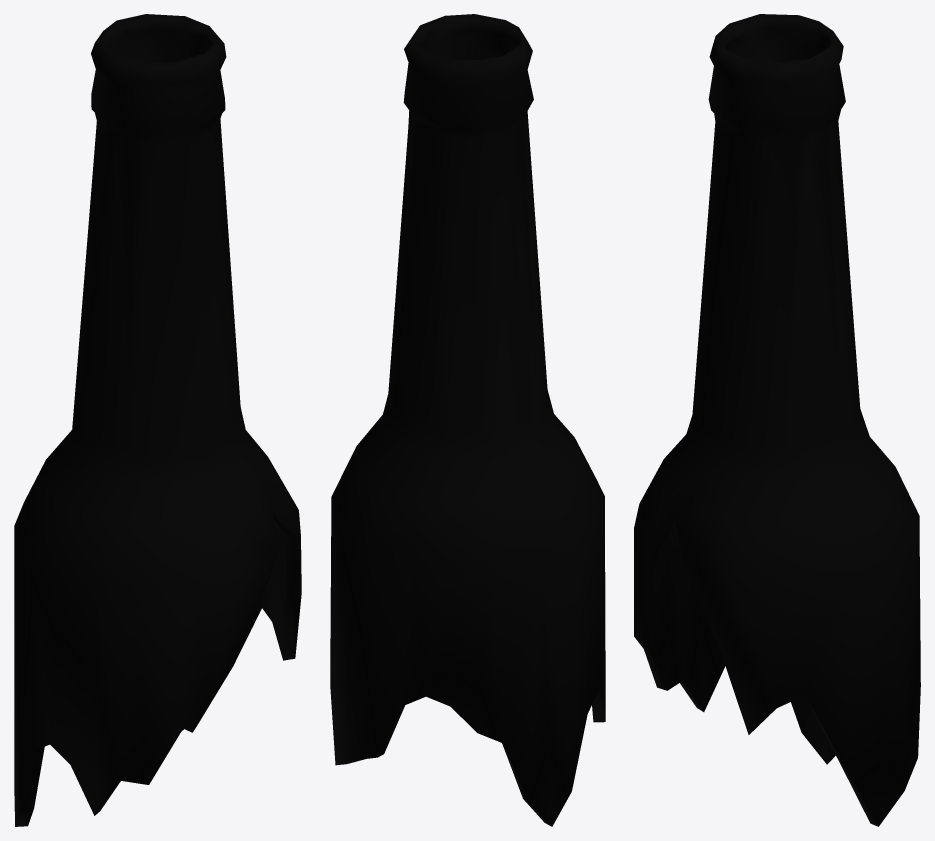
File: bottle.obj
3 views of the same model, side by side, from view 1: azimuth 30°, elevation 25°; view 2: azimuth 150°, elevation 25°; view 3: azimuth 270°, elevation 25° (orthographic). The views are drawn at different scales.
Parts seen in each view (by area): view 1: defaultMaterial; view 2: defaultMaterial; view 3: defaultMaterial.
Boxes of the visible parts, <box> form: defaultMaterial: <box>14,14,301,826</box>; defaultMaterial: <box>330,14,605,826</box>; defaultMaterial: <box>634,14,920,826</box>.
Bounding box in the file's own units: 13.07 × 38.95 × 13.
1 material, 1 textured.
